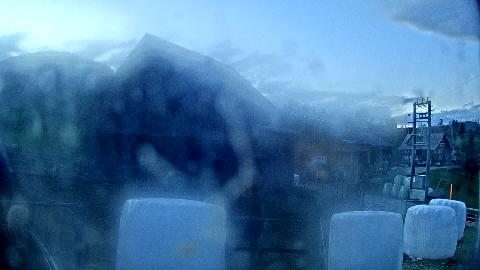car: (418, 161, 426, 167)
sheep: (7, 205, 29, 235)
